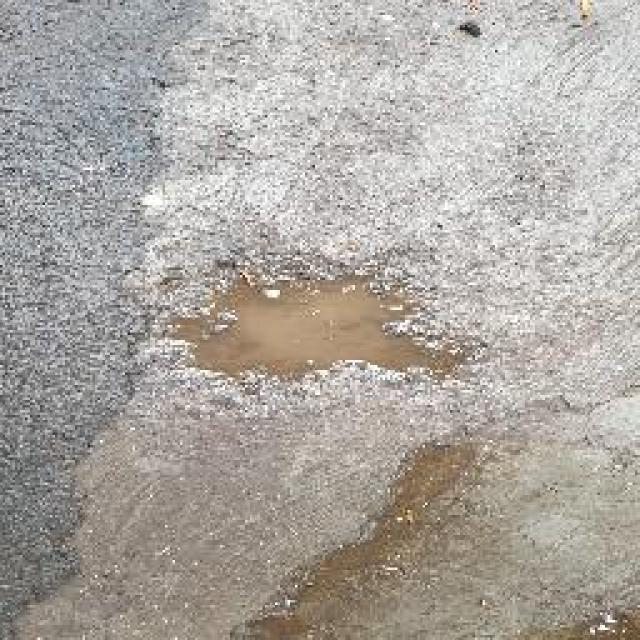puddle: (180, 280, 429, 383)
